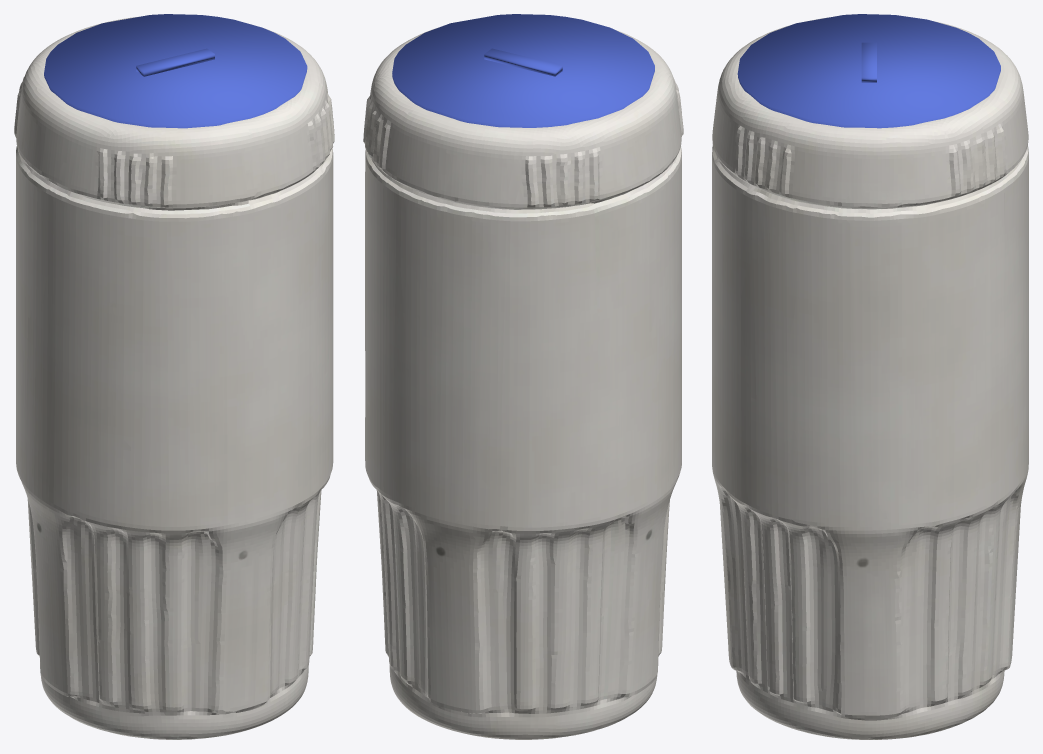
Rendered from araldite-container-procedural.glb.
3 views of the same model, side by side, from view 1: azimuth 30°, elevation 25°; view 2: azimuth 150°, elevation 25°; view 3: azimuth 270°, elevation 25° (orthographic).
Visible parts, largest first — view 1: AdhesiveDispenser_HF, HF_Lid; view 2: AdhesiveDispenser_HF, HF_Lid; view 3: AdhesiveDispenser_HF, HF_Lid.
Boxes of the visible parts, x1=… form: AdhesiveDispenser_HF: x1=14, y1=16, x2=334, y2=739; HF_Lid: x1=44, y1=14, x2=307, y2=128; AdhesiveDispenser_HF: x1=363, y1=28, x2=683, y2=739; HF_Lid: x1=392, y1=14, x2=654, y2=127; AdhesiveDispenser_HF: x1=712, y1=17, x2=1028, y2=739; HF_Lid: x1=737, y1=14, x2=1000, y2=128.
Bounding box in the file's own units: 1.2 × 2.62 × 1.2.
Materials: 2 (1 with a texture image).
